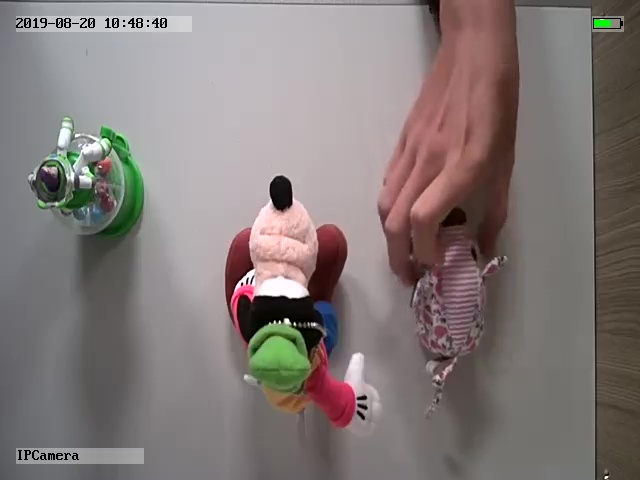buzz: (25, 115, 145, 243)
goofy: (221, 173, 381, 436)
pig: (412, 204, 508, 419)
